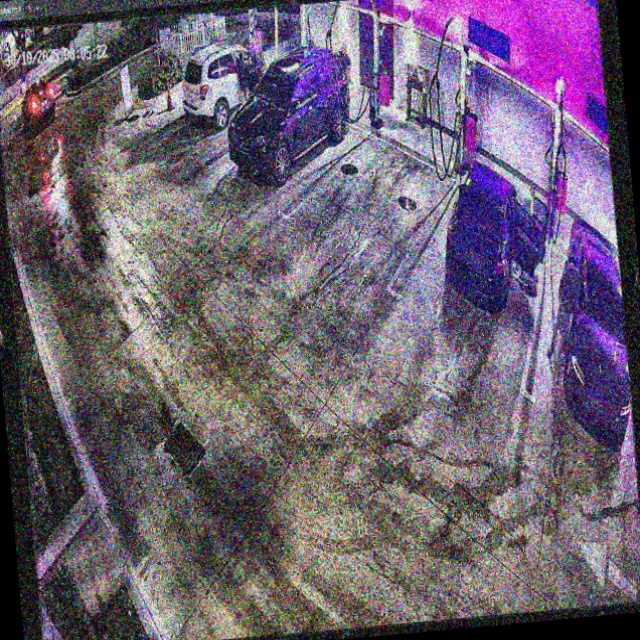Car: (220, 41, 355, 188), (437, 156, 557, 308)
